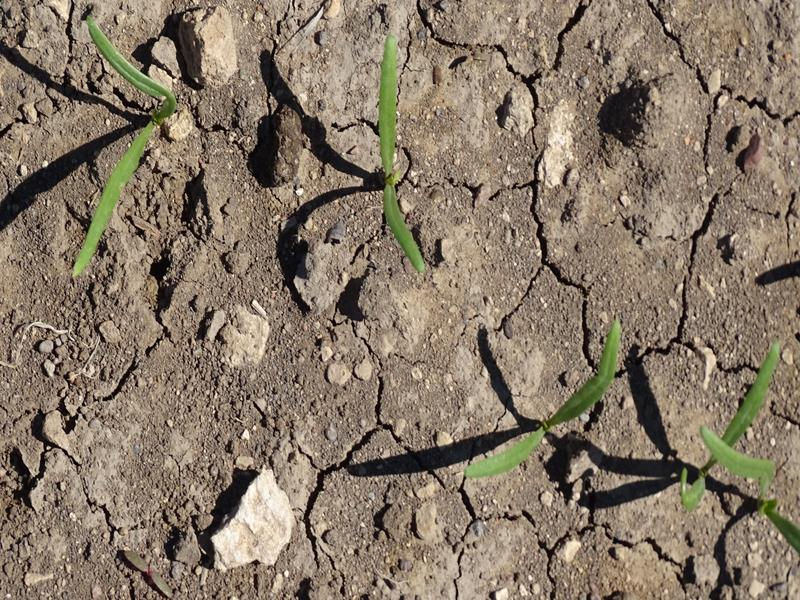Espinaca: (472, 316, 626, 478), (76, 20, 169, 277), (679, 340, 785, 512), (376, 36, 435, 272)
